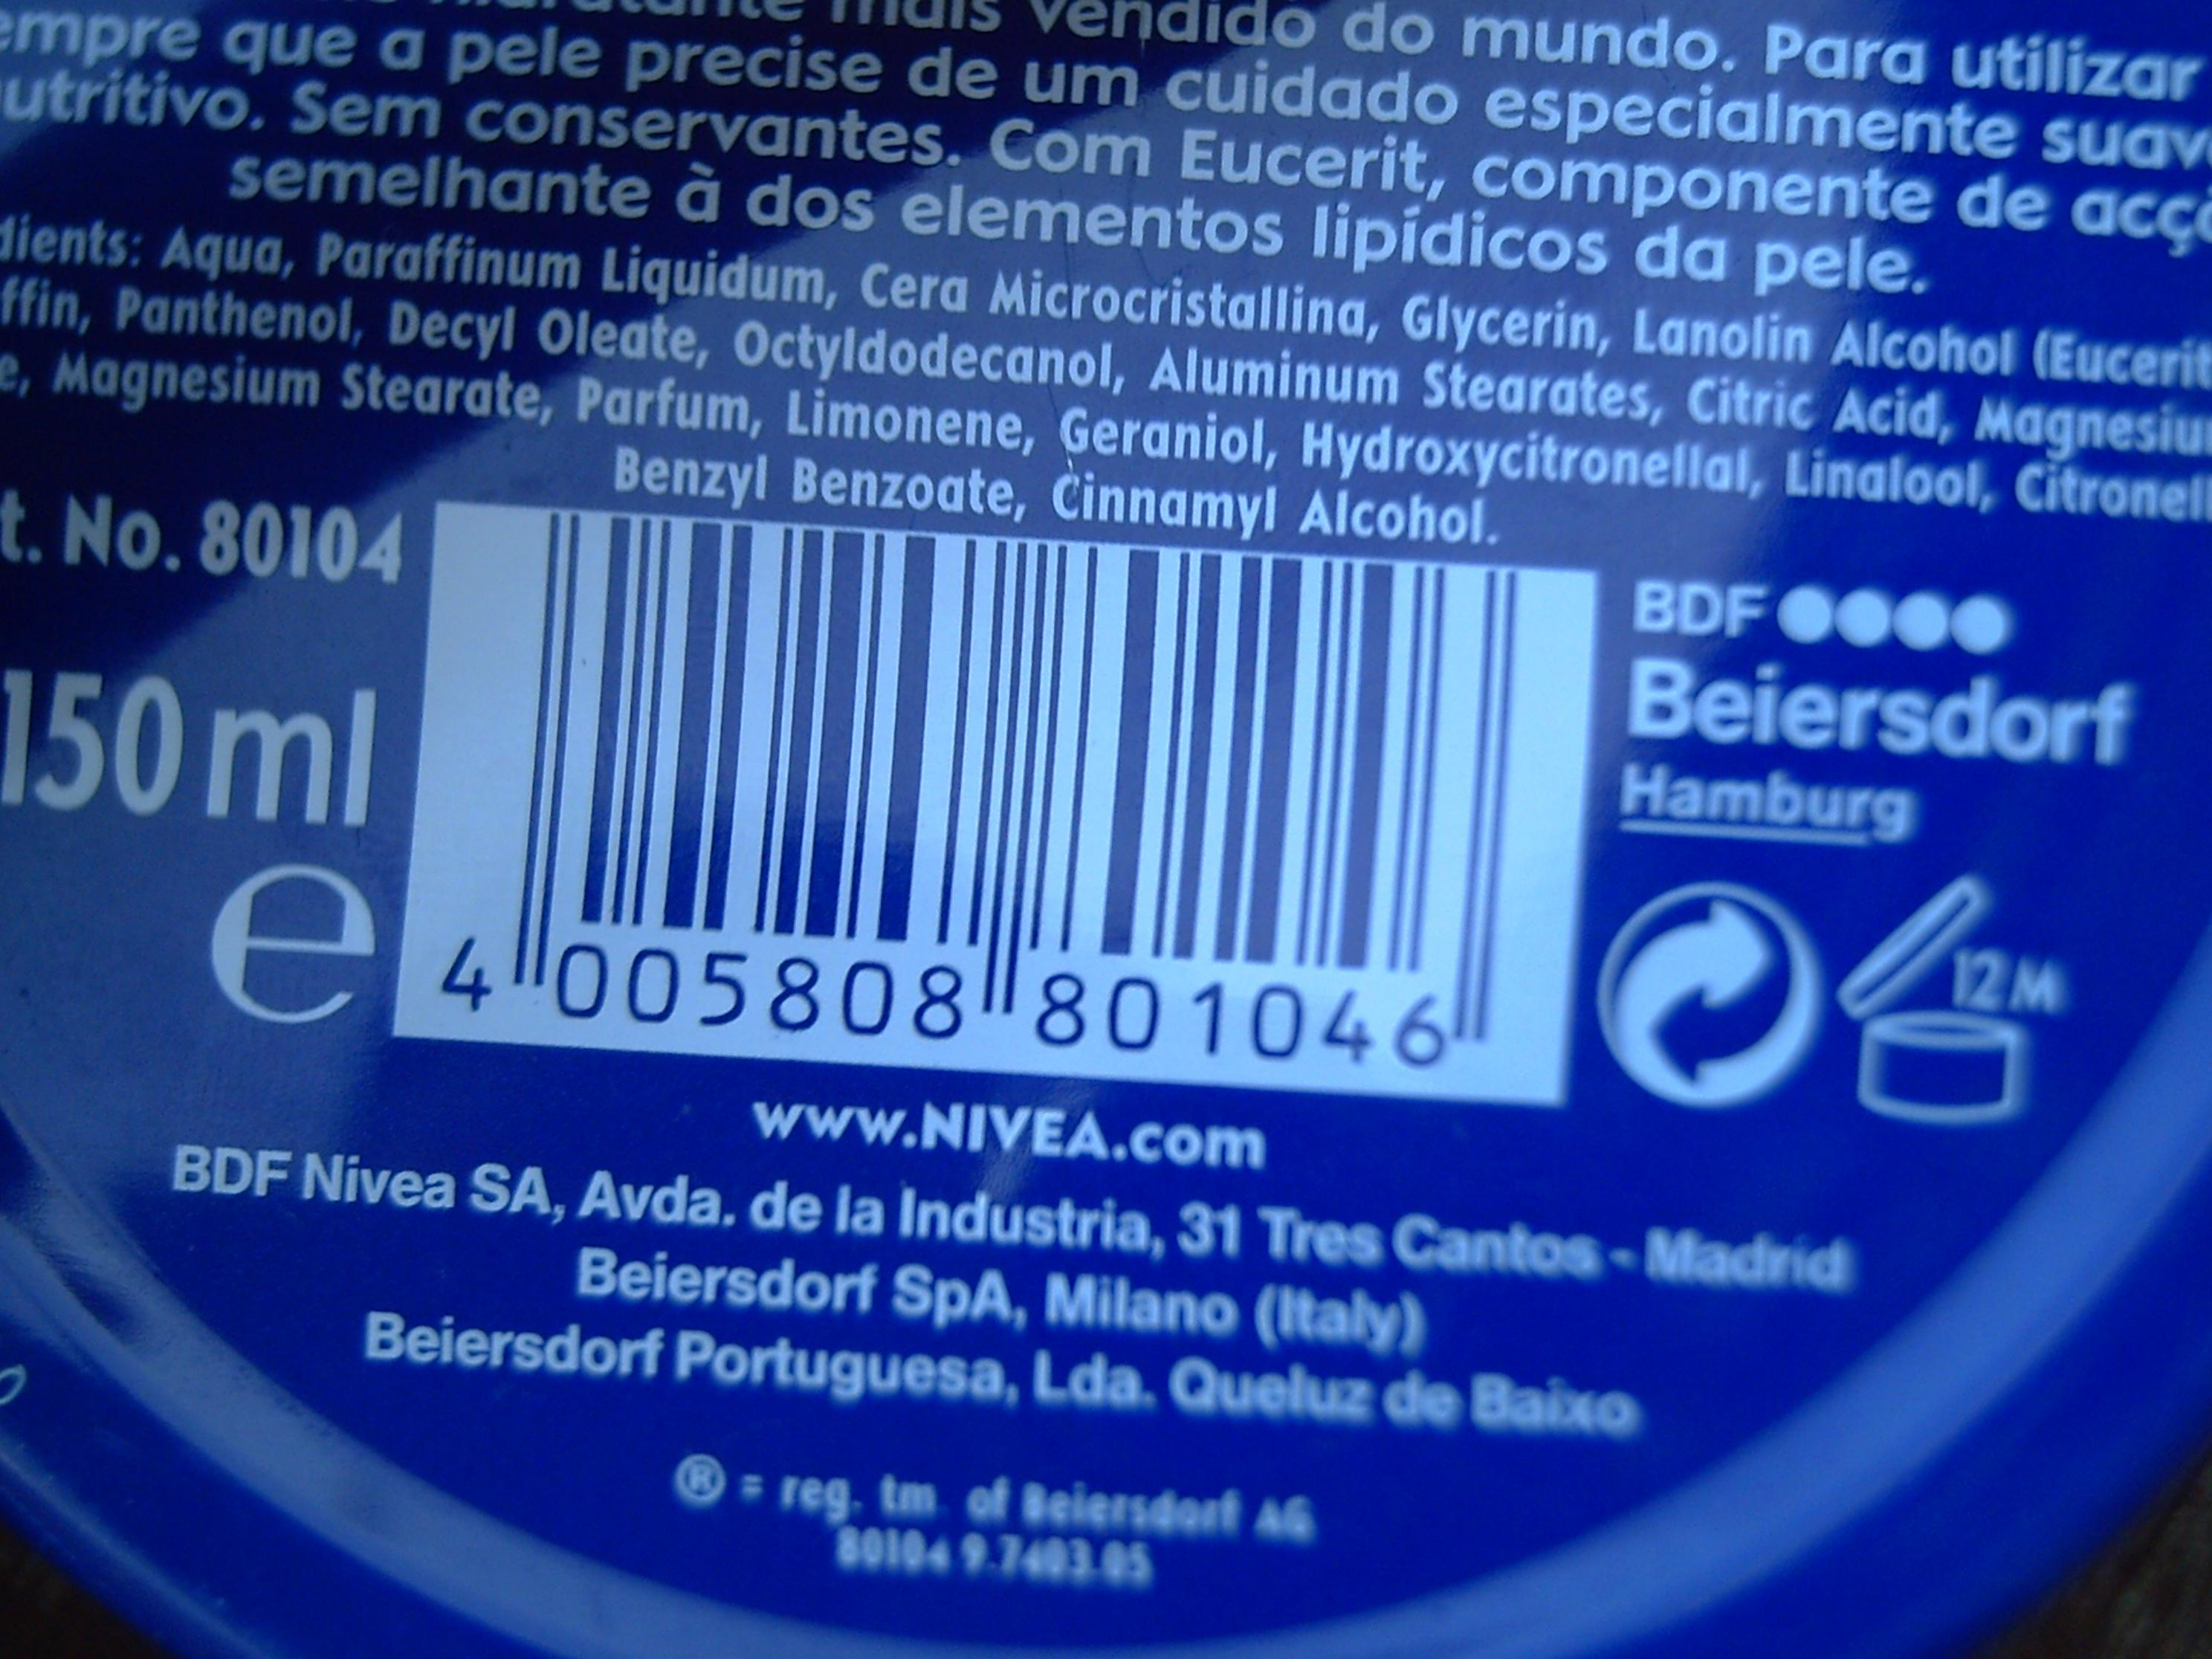barcode: (390, 502, 1595, 1101)
